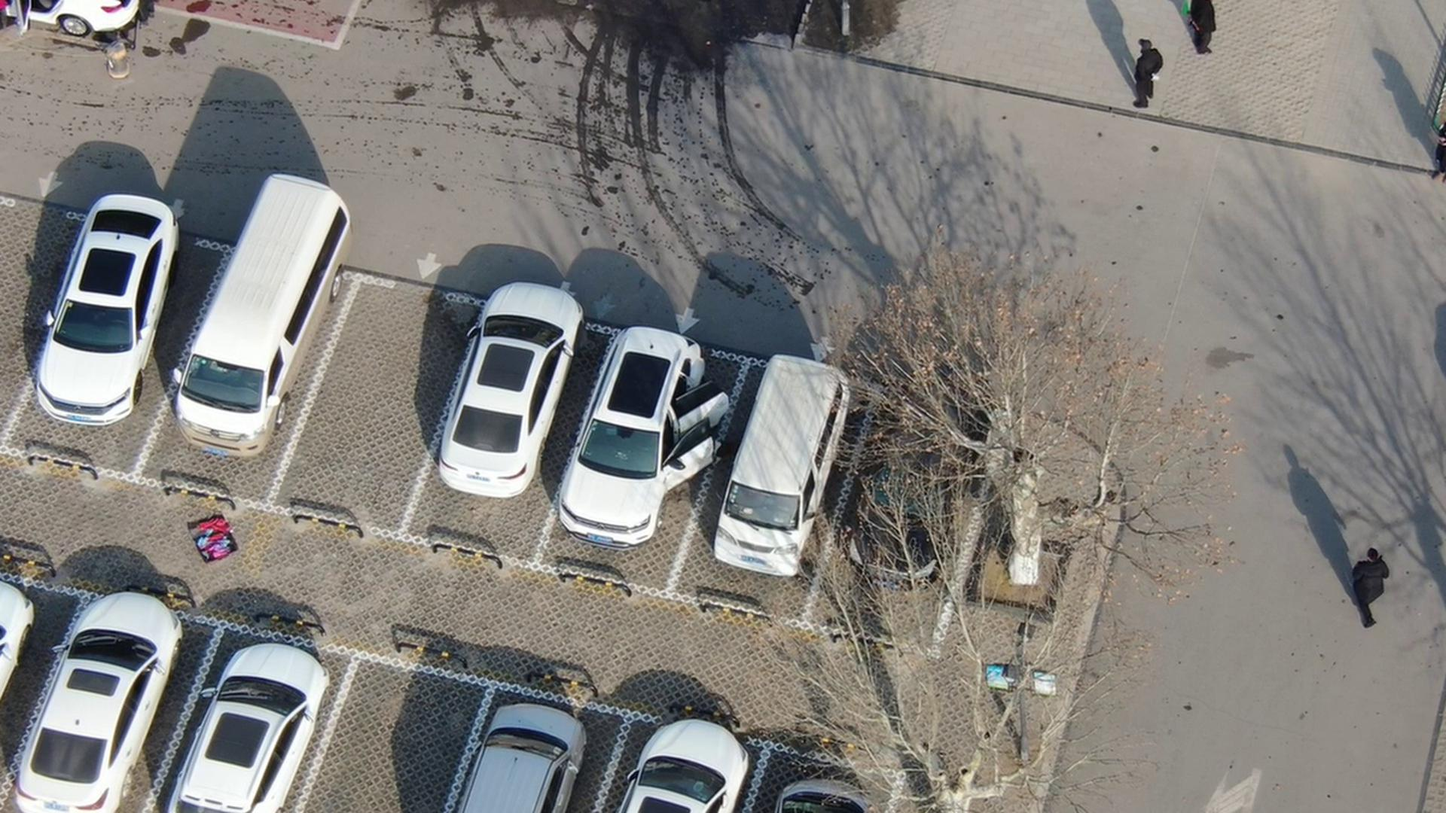human: (1338, 542, 1390, 641), (1122, 35, 1167, 111), (1178, 1, 1215, 61), (1417, 127, 1446, 199)
